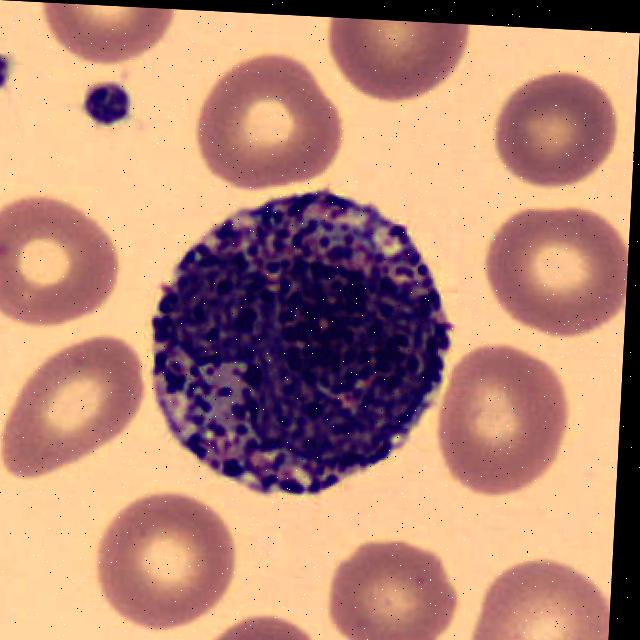basophil: (124, 190, 470, 548)
platelets: (75, 72, 138, 130), (0, 57, 25, 104)
rbc: (189, 42, 375, 191), (0, 317, 140, 485), (435, 339, 573, 497), (99, 489, 247, 629), (484, 203, 631, 331), (318, 519, 464, 640), (0, 179, 126, 318), (498, 66, 619, 186), (321, 17, 473, 107), (477, 552, 613, 640), (27, 2, 177, 66), (204, 588, 340, 640)
